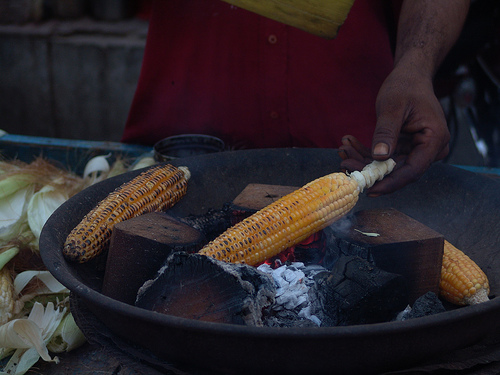corn: (194, 170, 360, 266), (64, 159, 189, 263), (440, 237, 492, 306)
